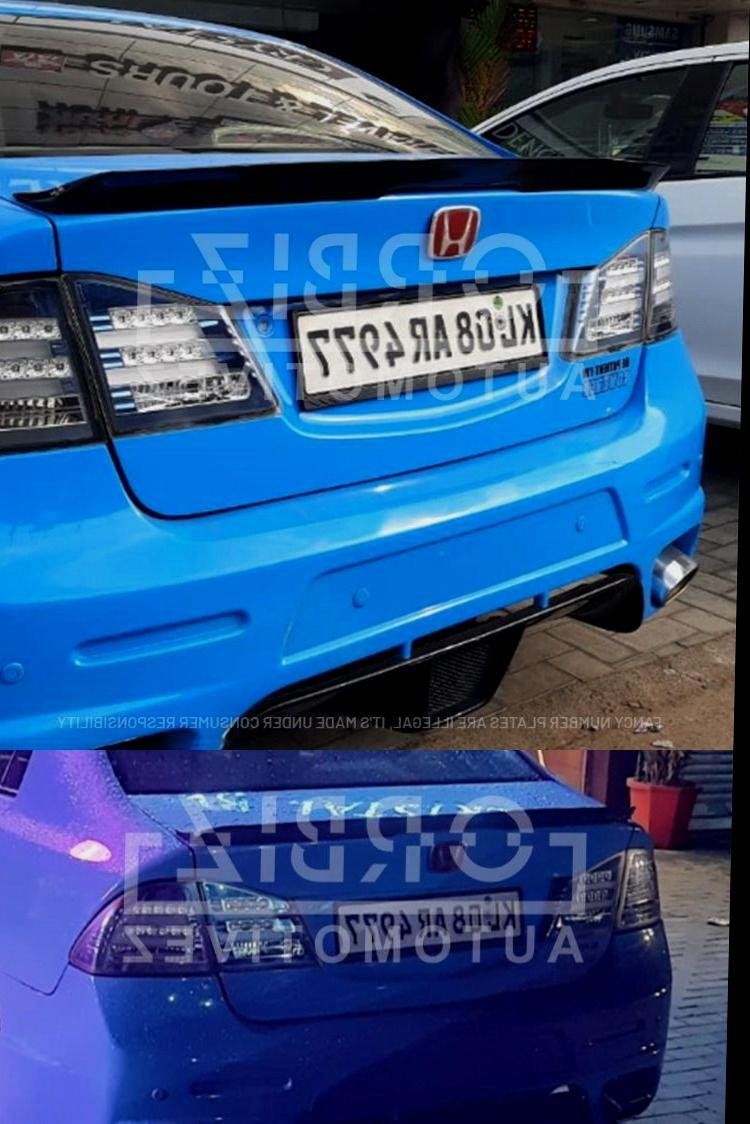License_Plate: (258, 247, 559, 440)
